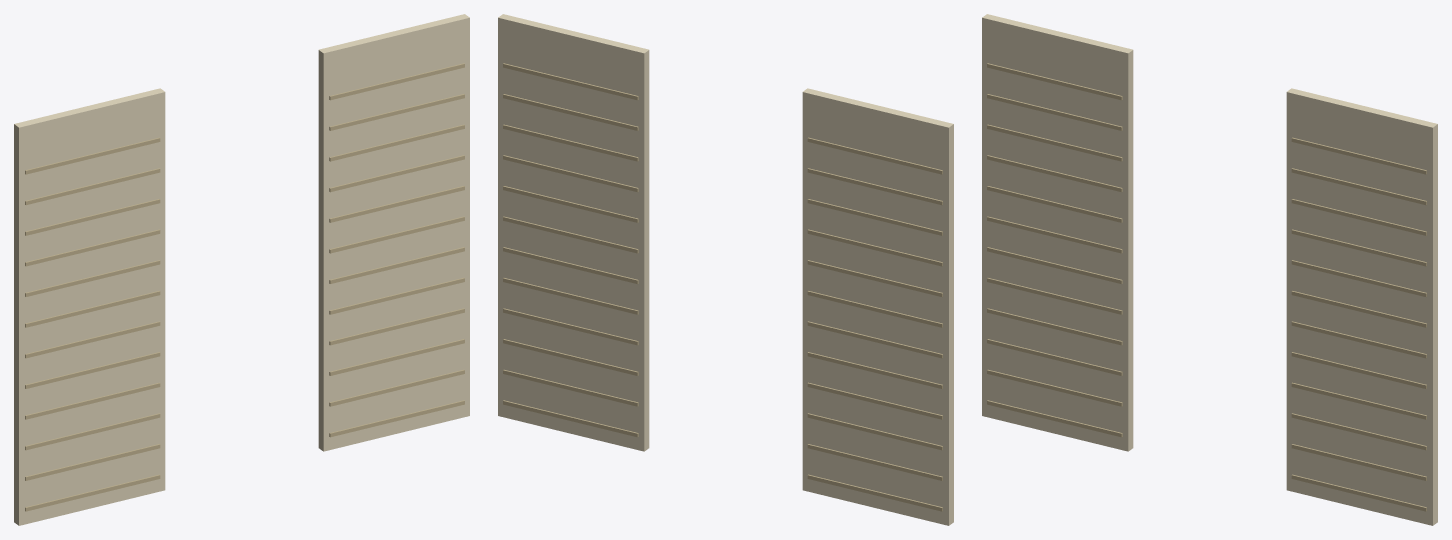
The model's file is shutters.glb.
3 views of the same model, side by side, from view 1: azimuth 30°, elevation 25°; view 2: azimuth 150°, elevation 25°; view 3: azimuth 330°, elevation 25° (orthographic).
Visible parts, largest first — view 1: shutters; view 2: shutters; view 3: shutters.
Part boxes in pixels (x1,y1,x2,y2): shutters: [14, 14, 469, 525]; shutters: [498, 14, 953, 525]; shutters: [982, 14, 1437, 525].
Bounding box in the file's own units: 1.54 × 1.3 × 0.04.
